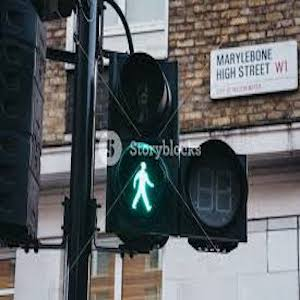green: (128, 152, 156, 220)
